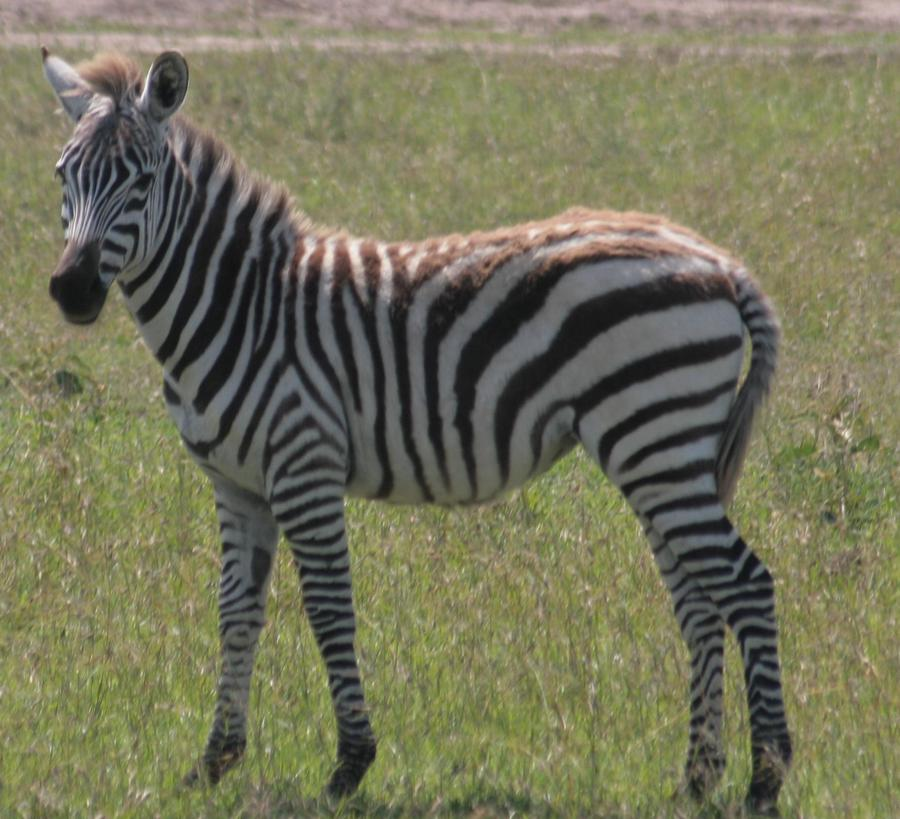zebra_plains: (163, 196, 776, 504)
